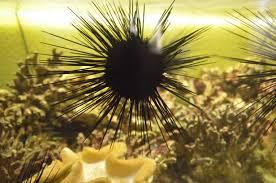urchin: (31, 7, 221, 147)
